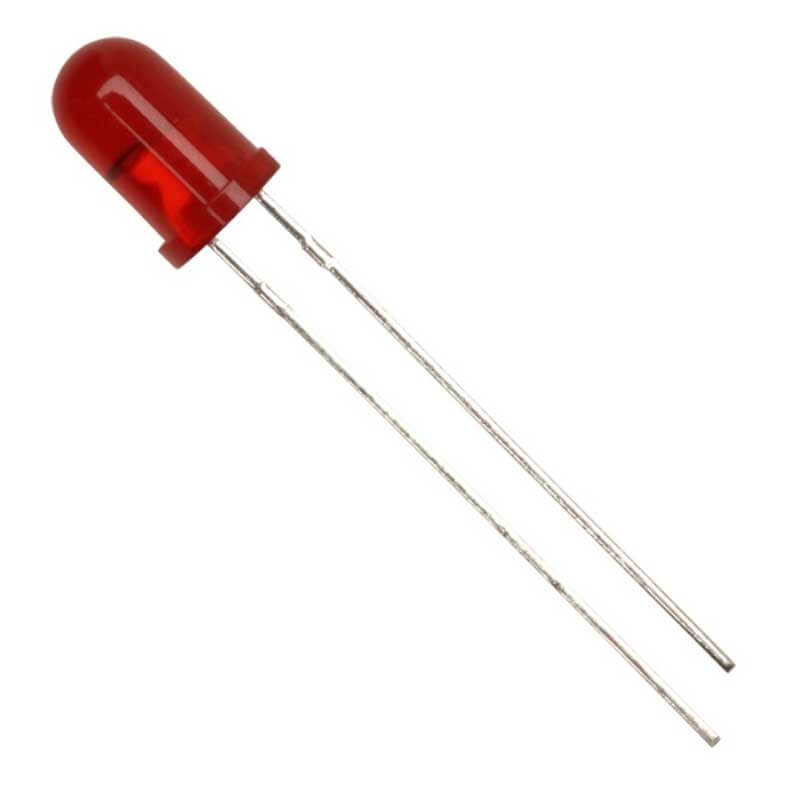LED: (49, 36, 282, 269)
